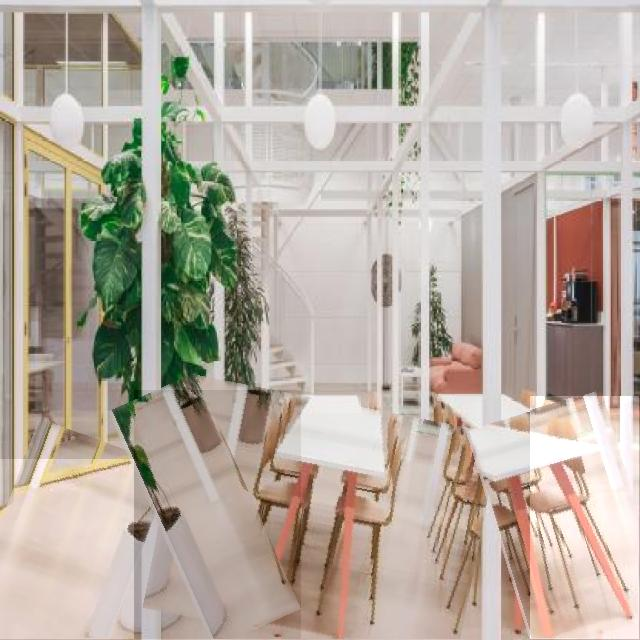floor: (143, 414, 470, 640), (134, 390, 301, 640), (0, 460, 168, 639), (531, 397, 639, 639), (512, 557, 546, 640)
